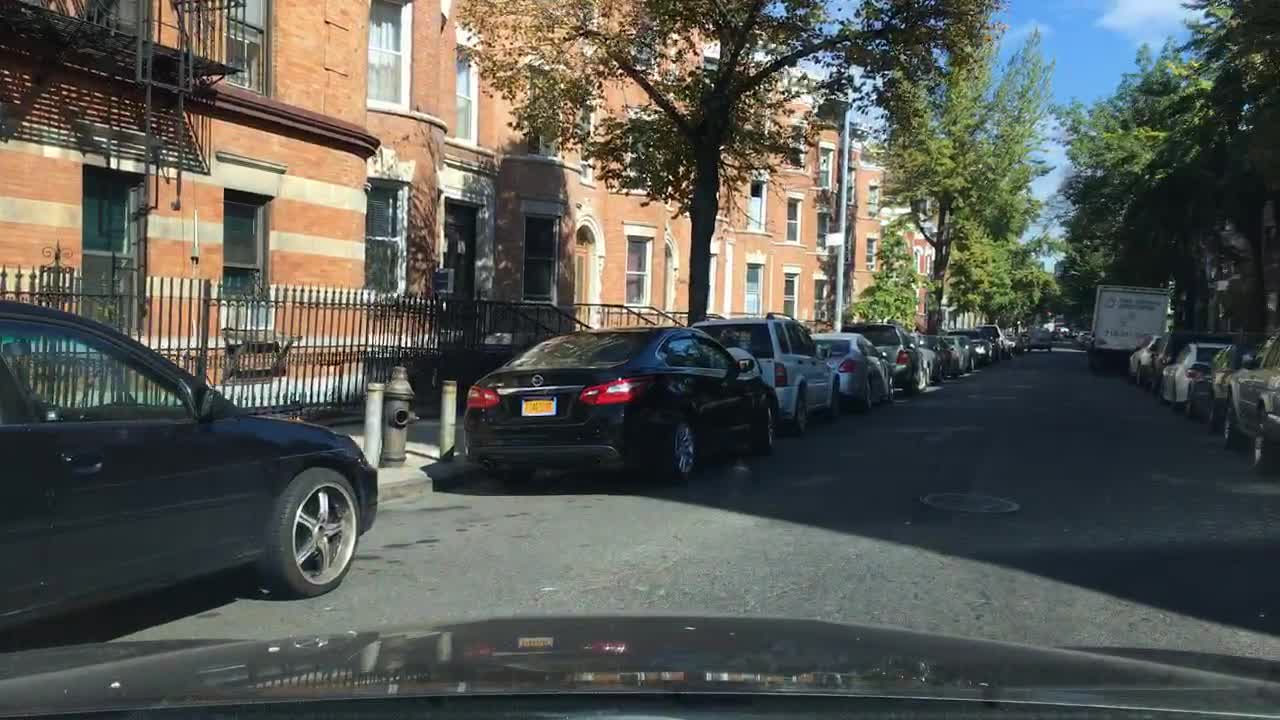car: (0, 296, 380, 630), (457, 322, 782, 493), (687, 310, 847, 436), (1221, 332, 1280, 465), (844, 322, 939, 393), (1191, 342, 1269, 425), (810, 332, 893, 408), (1148, 327, 1226, 398), (1155, 344, 1220, 415), (917, 336, 963, 379), (953, 327, 993, 369), (1129, 335, 1163, 379), (979, 322, 1016, 361), (940, 335, 976, 375), (1022, 327, 1052, 353), (1003, 330, 1019, 350), (1075, 327, 1091, 344), (1055, 326, 1072, 338)
truck: (1086, 287, 1174, 375)
